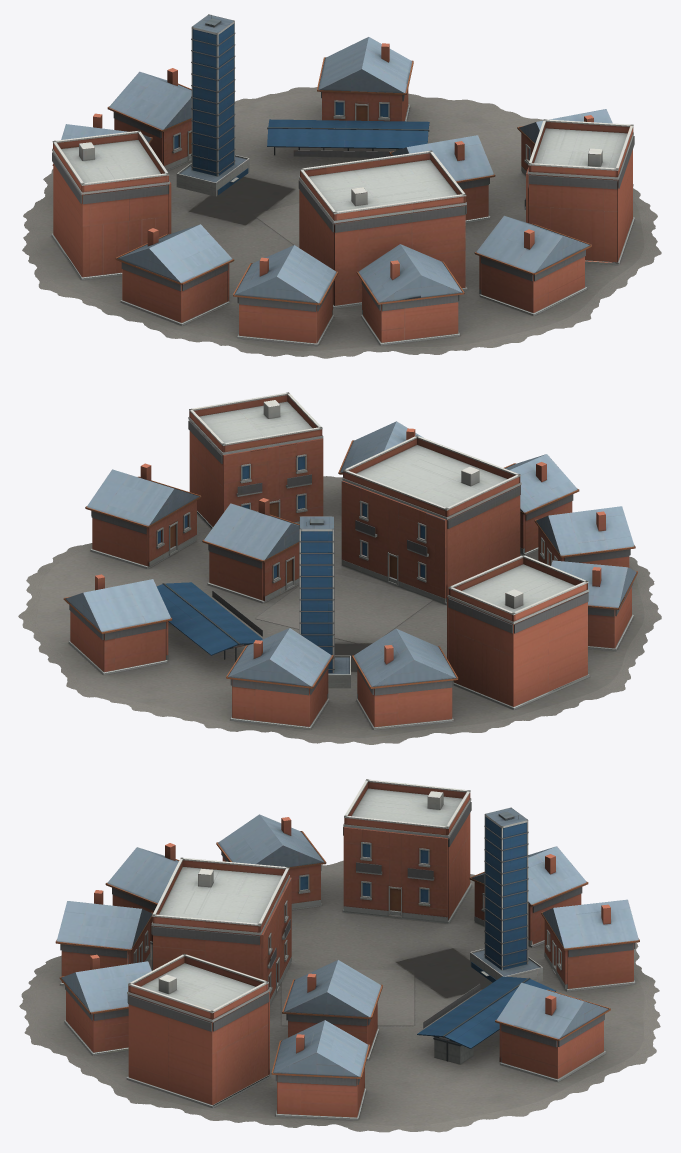
File: modern-town-medium-a-europe.glb
The picture shows the model from 3 angles, top to bottom: view 1: azimuth 30°, elevation 25°; view 2: azimuth 150°, elevation 25°; view 3: azimuth 270°, elevation 25°; orthographic projection.
Parts seen in each view (by area): view 1: LOD0; view 2: LOD0; view 3: LOD0.
Part boxes in pixels (<box>): LOD0: <box>22,14,661,358</box>; LOD0: <box>18,392,661,744</box>; LOD0: <box>19,779,660,1132</box>.
Size of what is drawn, in the model's own units: 6.04 by 1.63 by 5.91.
Materials: 3 (3 with a texture image).
